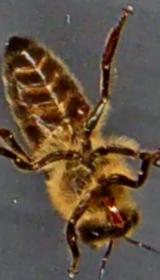varroa_mite: (72, 96, 91, 120)
